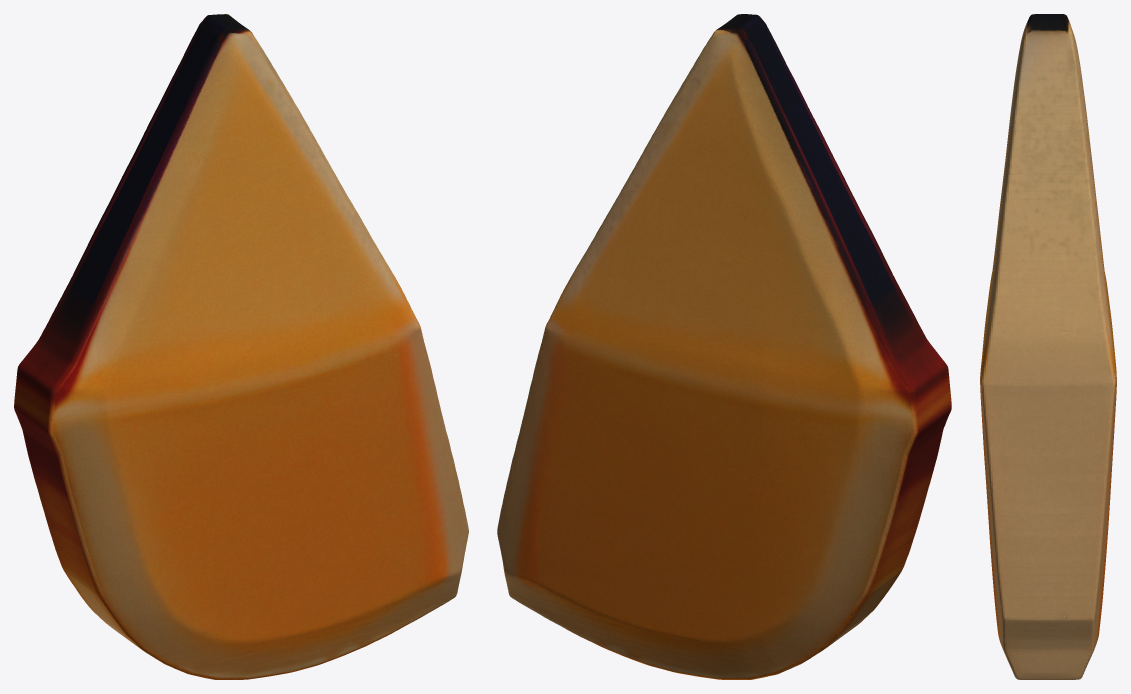
The model's file is image_0001_segmented.glb.
The picture shows the model from 3 angles, left to right: view 1: azimuth 30°, elevation 25°; view 2: azimuth 150°, elevation 25°; view 3: azimuth 270°, elevation 25°; orthographic projection. The views are drawn at different scales.
Visible parts, largest first — view 1: tmpy3poryti.ply; view 2: tmpy3poryti.ply; view 3: tmpy3poryti.ply.
Boxes of the visible parts, x1,y1,x2,y2 form: tmpy3poryti.ply: (14,14,468,679); tmpy3poryti.ply: (497,14,951,679); tmpy3poryti.ply: (980,14,1116,679).
Bounding box in the file's own units: 1.32 × 1.99 × 0.4125.
1 material, 1 textured.
